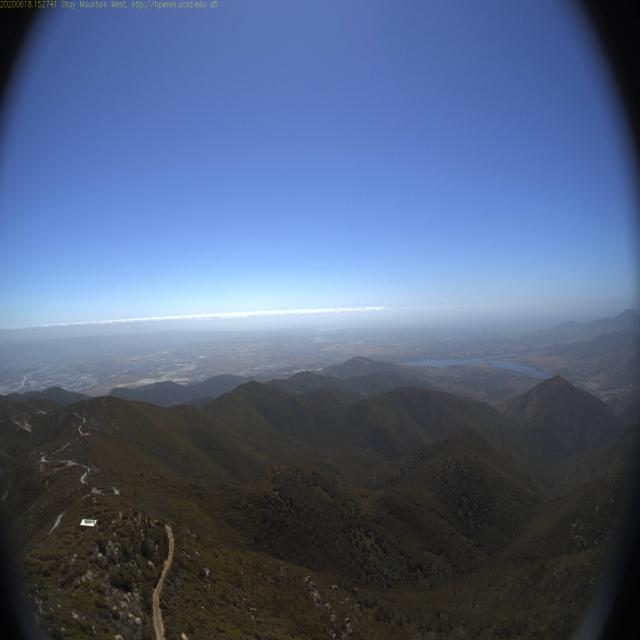smoke: (311, 321, 325, 345)
